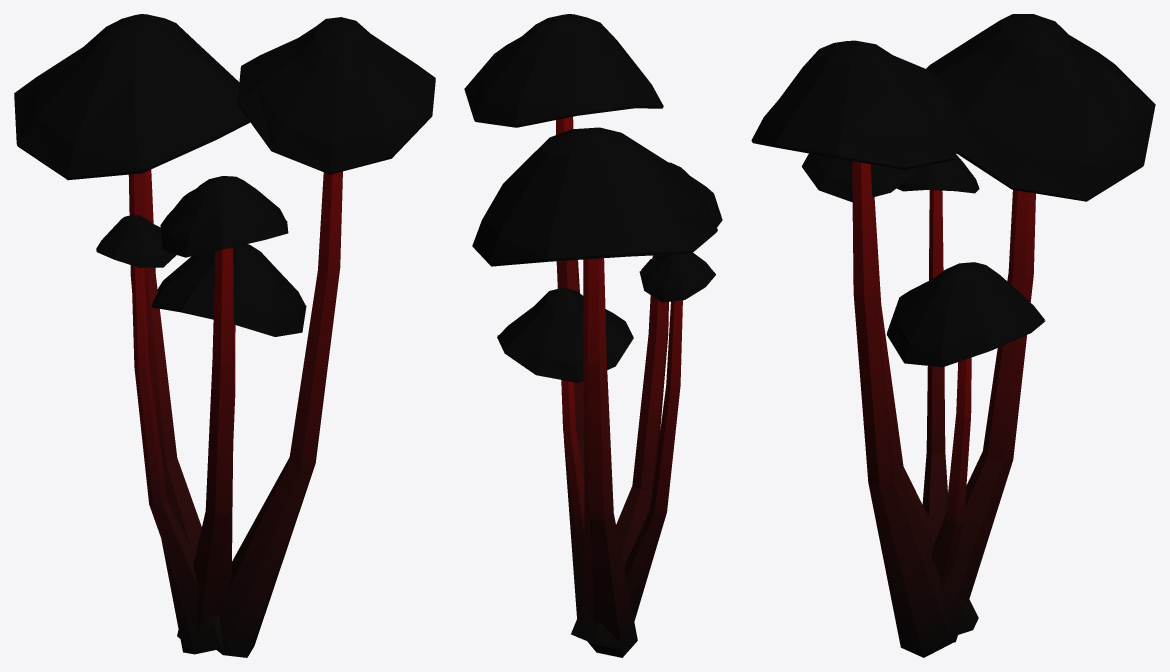
Rendered from FungiUmbona04.fbx.
3 views of the same model, side by side, from view 1: azimuth 30°, elevation 25°; view 2: azimuth 150°, elevation 25°; view 3: azimuth 270°, elevation 25° (orthographic). The views are drawn at different scales.
Visible parts, largest first — view 1: FungiUmbona04; view 2: FungiUmbona04; view 3: FungiUmbona04.
Boxes of the visible parts, x1,y1,x2,y2 form: FungiUmbona04: (14,14,435,657); FungiUmbona04: (464,14,722,657); FungiUmbona04: (751,14,1155,657).
Bounding box in the file's own units: 20.18 × 38.62 × 22.09.
